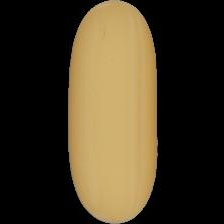69387-100: (0, 0, 224, 224)
